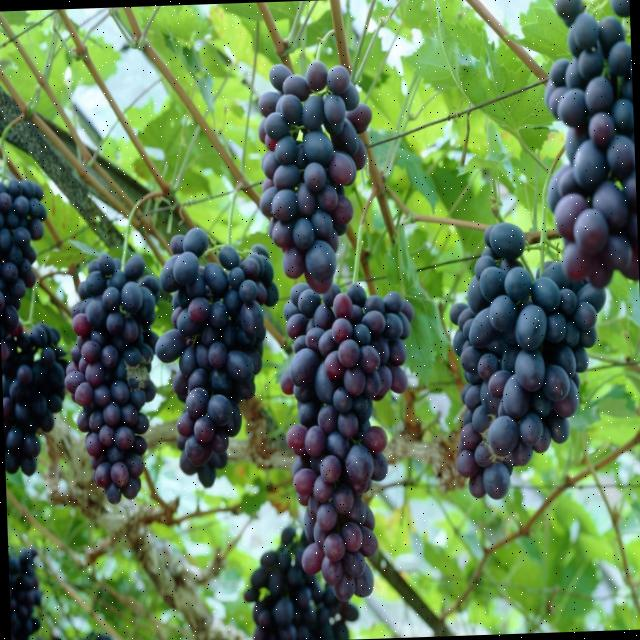grape: (449, 221, 604, 497), (279, 282, 412, 599), (154, 226, 277, 485), (544, 0, 637, 285), (257, 60, 370, 291), (64, 252, 158, 502), (0, 178, 65, 473), (243, 525, 357, 640), (1, 319, 61, 472), (8, 549, 39, 640)
